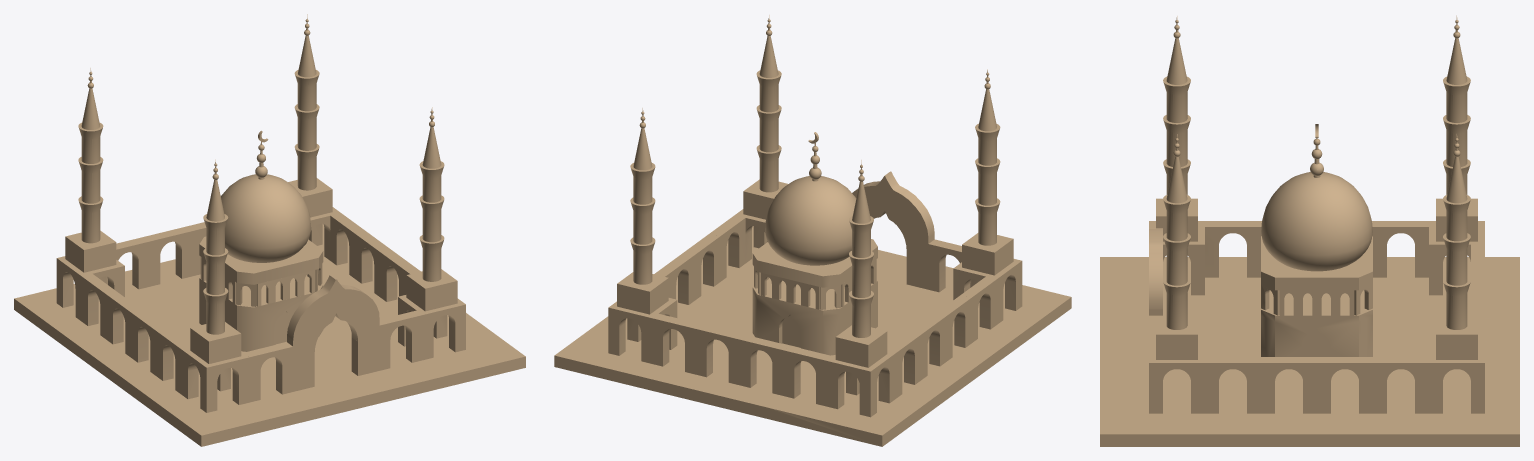
Rendered from Moschea.fbx.
3 renders of one model, left to right at view 1: azimuth 30°, elevation 25°; view 2: azimuth 150°, elevation 25°; view 3: azimuth 270°, elevation 25°, orthographic. The views are drawn at different scales.
Visible parts, largest first — view 1: Copy Of Mosque; view 2: Copy Of Mosque; view 3: Copy Of Mosque.
Boxes of the visible parts, left/top/right/bottom form: Copy Of Mosque: left=14, top=14, right=525, bottom=446; Copy Of Mosque: left=554, top=15, right=1071, bottom=446; Copy Of Mosque: left=1100, top=15, right=1519, bottom=446.
Size of the model in its own units: 3512 by 2605 by 3512.
